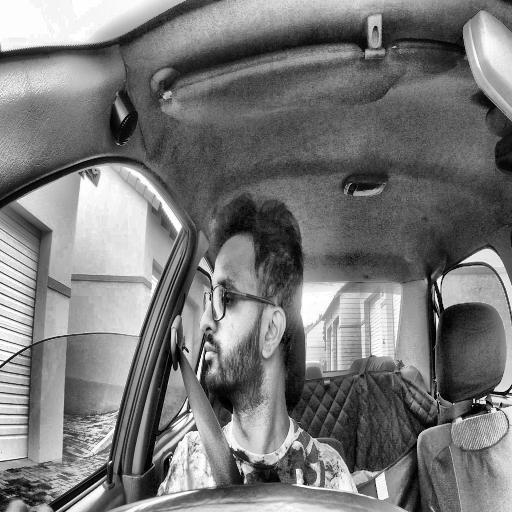awake: (199, 194, 305, 400)
